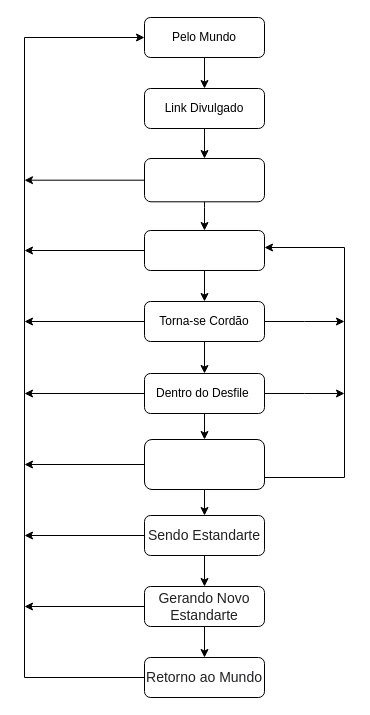
The diagram is 370 pixels wide and 715 high, and some of its shapes have lost their labels. The shapes that lost their labels are listed below. From the top down, each one's centre as x and y in pixels, then its label:
At point 204,180: "Se aproxima do Cordão".
At point 204,250: "Entra no Papo".
At point 204,464: "Vendo o Estandarte".
